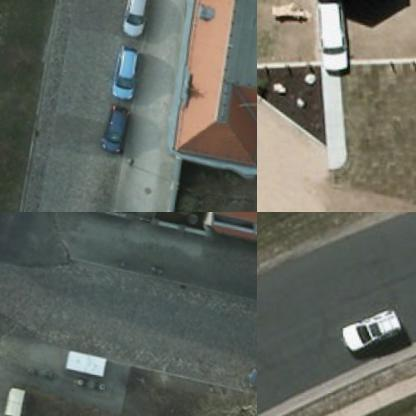car: (332, 308, 401, 356), (312, 0, 352, 78), (102, 52, 140, 108), (115, 0, 150, 43), (95, 114, 120, 158), (239, 368, 256, 405)
